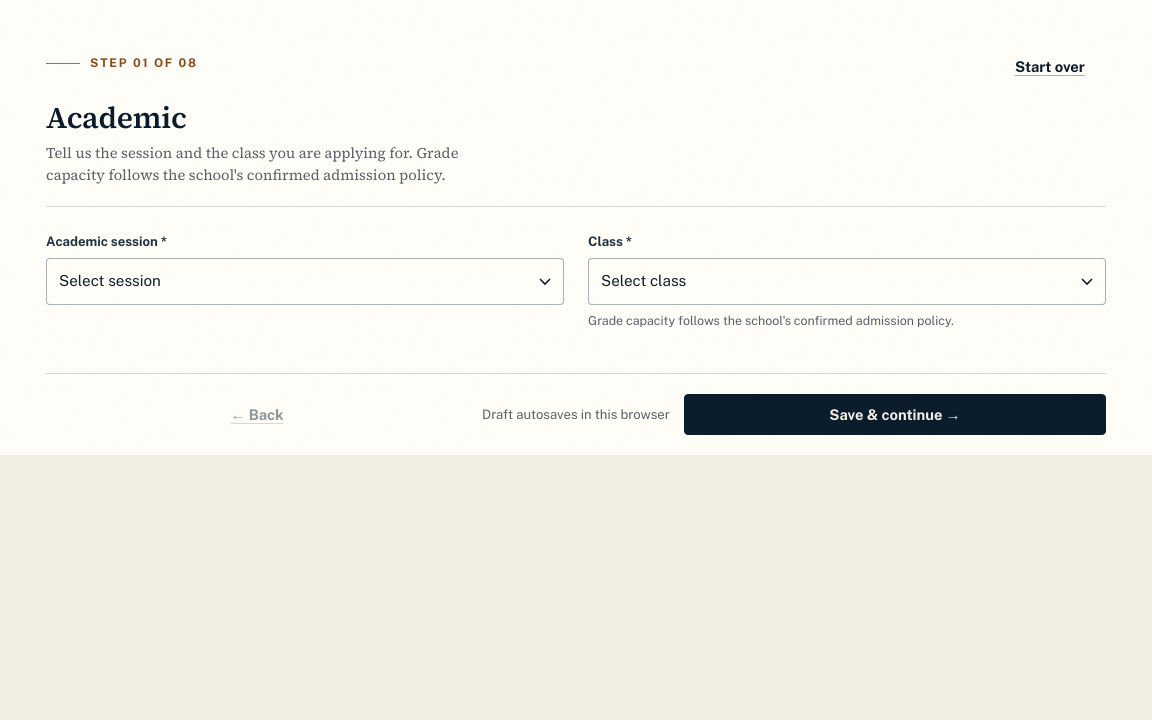
Test: ApplicationForm › shows validation errors when step 1 is submitted empty
Click the button "Save & continue →" at [895, 415], box [684,394,1106,436]
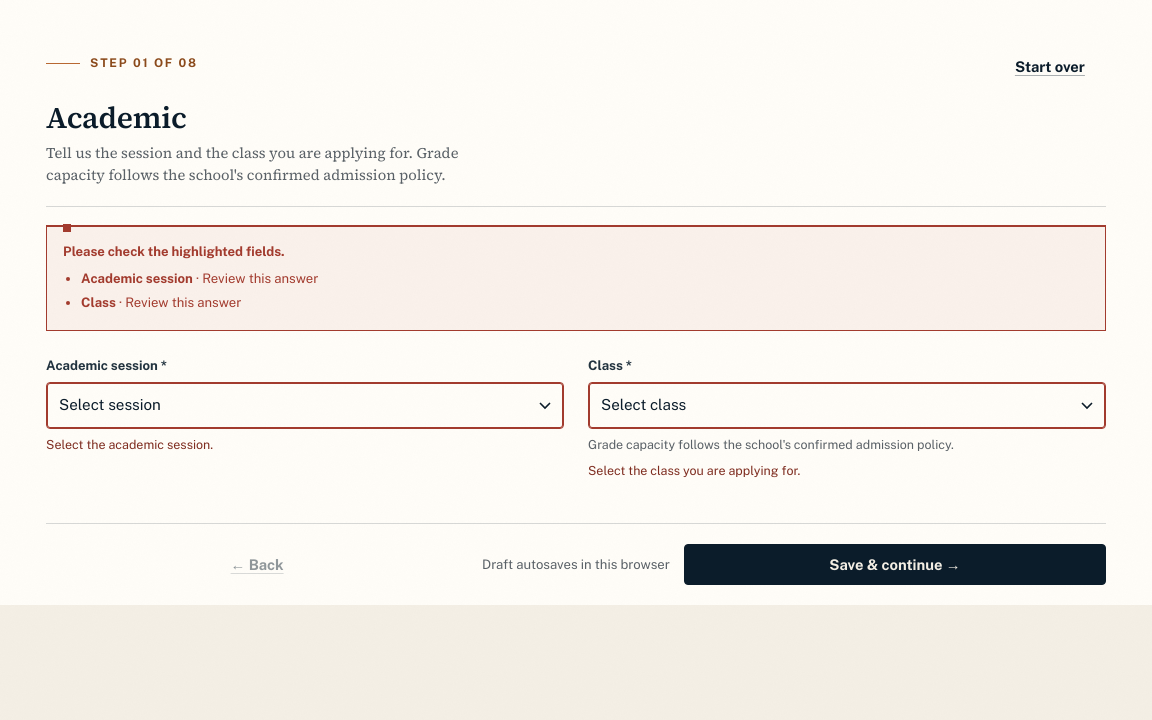
Expected: the message shows "Please check the highlighted fields.", [63,244,285,260]
Expected: the text "Select the academic session." is shown, [46,437,213,452]
Expected: the text "Select the class you are applying for." is shown, [588,463,800,478]
